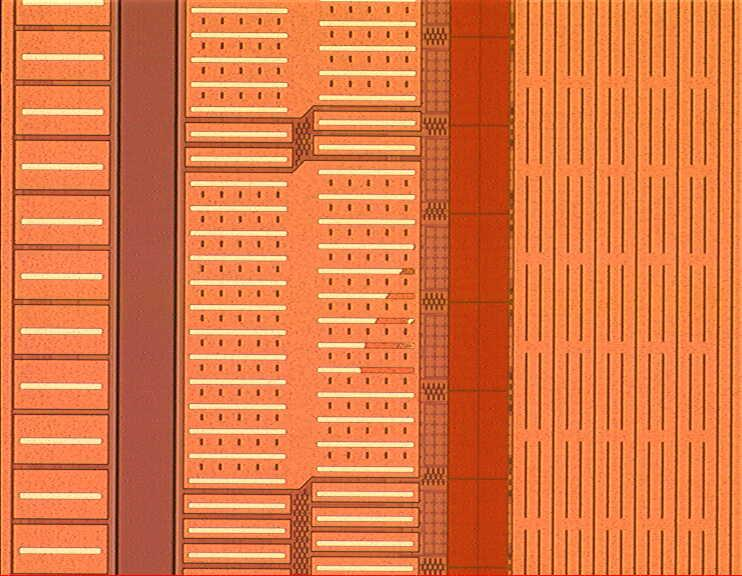COATING BAD: (353, 241, 448, 388)
